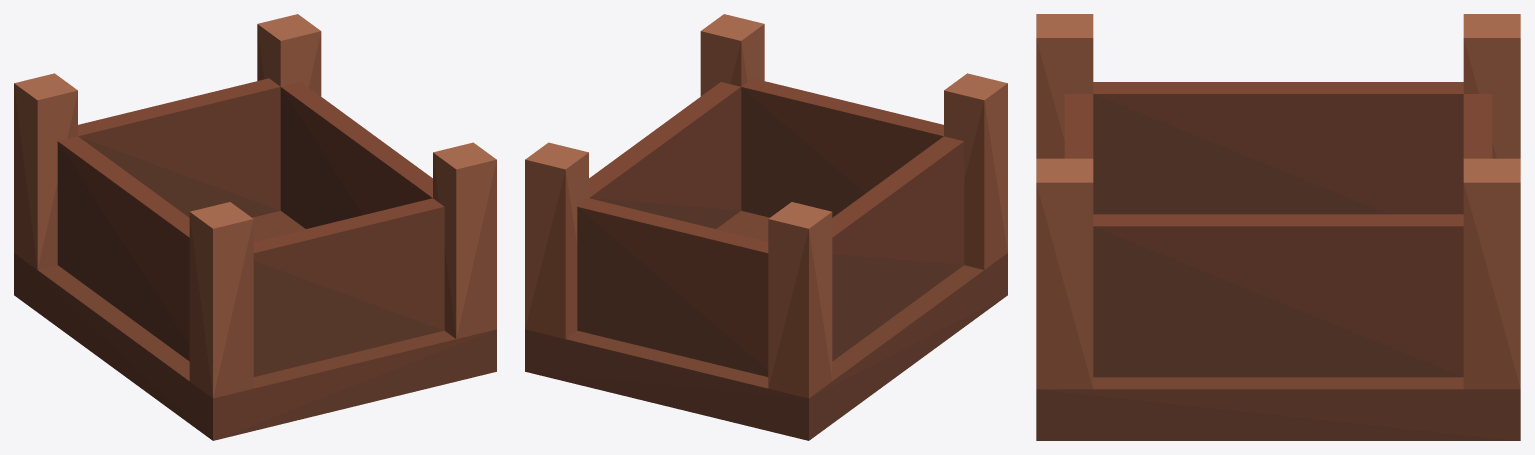
Rendered from pirate_crate.glb.
3 views of the same model, side by side, from view 1: azimuth 30°, elevation 25°; view 2: azimuth 150°, elevation 25°; view 3: azimuth 270°, elevation 25° (orthographic). The views are drawn at different scales.
Parts seen in each view (by area): view 1: pirate_crate; view 2: pirate_crate; view 3: pirate_crate.
Boxes of the visible parts, box(x1,y1,x2,y2) form: pirate_crate: box(14, 14, 496, 440); pirate_crate: box(525, 14, 1007, 440); pirate_crate: box(1036, 14, 1520, 440).
Bounding box in the file's own units: 1.08 × 0.77 × 1.31.
